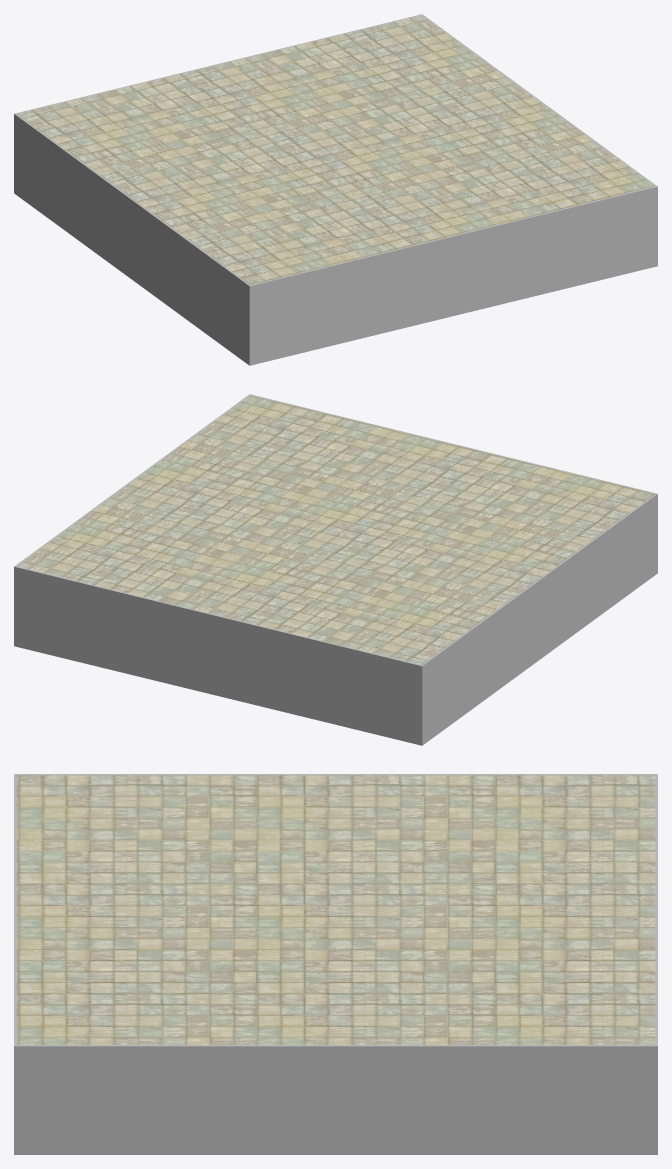
Rendered from road_site01bx1.fbx.
3 views of the same model, one above another, from view 1: azimuth 30°, elevation 25°; view 2: azimuth 150°, elevation 25°; view 3: azimuth 270°, elevation 25° (orthographic). The views are drawn at different scales.
Parts seen in each view (by area): view 1: road_site01bx1; view 2: road_site01bx1; view 3: road_site01bx1.
Boxes of the visible parts, <box> form: road_site01bx1: <box>14,14,657,365</box>; road_site01bx1: <box>14,394,657,745</box>; road_site01bx1: <box>14,774,657,1154</box>.
Size of the model in its own units: 12 by 2.24 by 12.
